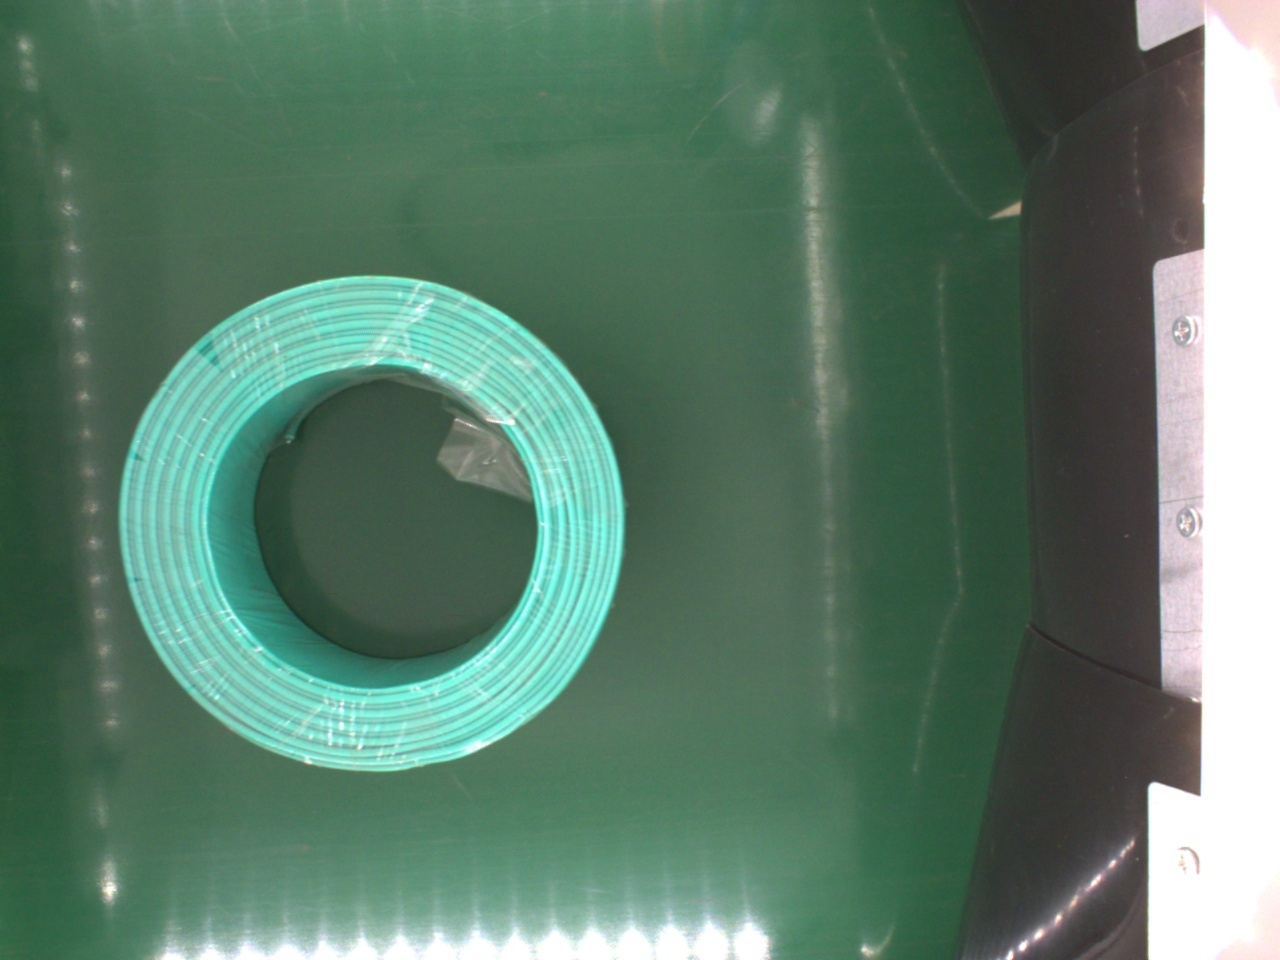green: (113, 273, 625, 774)
